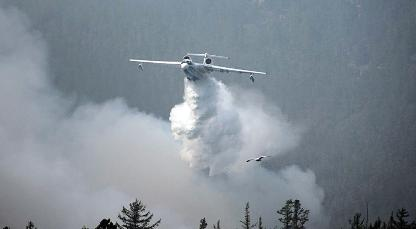B52: (128, 52, 270, 83)
